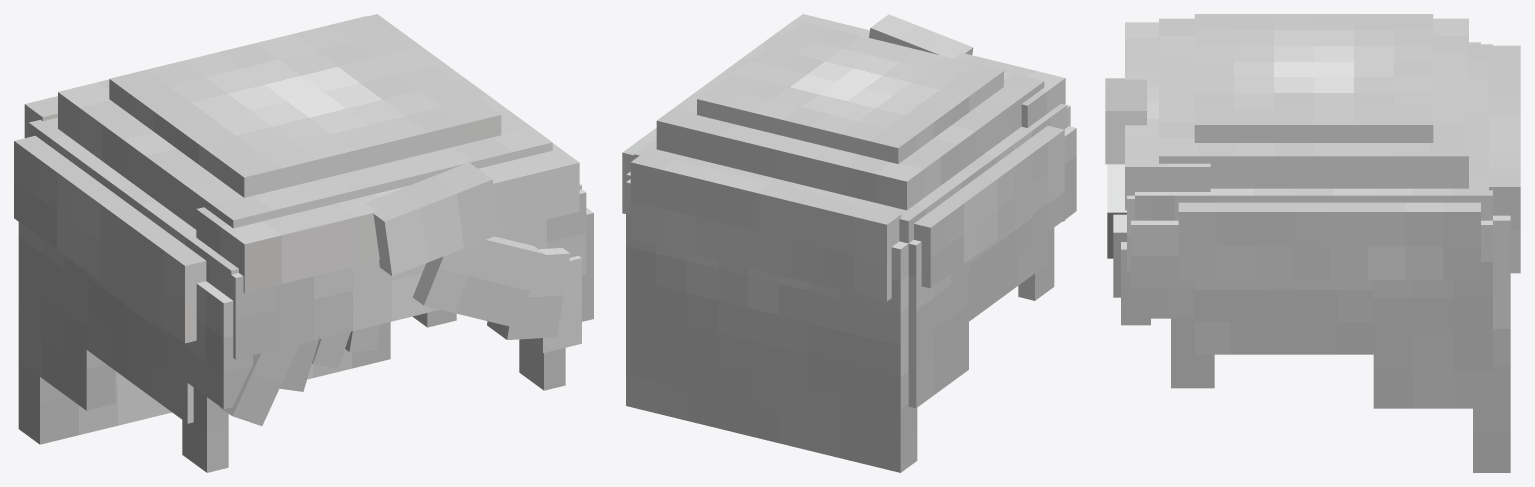
The model's file is side-swept-textured.gltf.
3 renders of one model, left to right at view 1: azimuth 30°, elevation 25°; view 2: azimuth 150°, elevation 25°; view 3: azimuth 270°, elevation 25°, orthographic. The views are drawn at different scales.
Visible parts, largest first — view 1: 정수리 꼭대기, 정수리 볼륨, 옆머리 L (×2), 옆 볼륨 L, 앞 볼륨, 앞 머리선, 컬 위, 컬 가운데, 뒤통수, 옆 앞쪽 L, 정수리, 컬 아래 (+9 smaller); view 2: 뒤통수, 정수리 꼭대기, 뒤통수 볼륨, 정수리 볼륨, 옆머리 L (×2), 옆 볼륨 L, 정수리, 앞 볼륨, 컬 위, 옆 앞쪽 L, 구레나룻 L, 옆 볼륨 R; view 3: 정수리 꼭대기, 옆머리 R (×2), 옆 볼륨 R, 정수리 볼륨, 정수리, 앞 볼륨, 뒤통수 볼륨, 뒤통수, 옆 앞쪽 R, 컬 위, 구레나룻 R, 컬 가운데 (+3 smaller).
Part boxes in pixels (x1=…): 정수리 꼭대기: x1=109, y1=16, x2=501, y2=197; 정수리 볼륨: x1=58, y1=14, x2=552, y2=229; 옆머리 L (×2): x1=19, y1=222, x2=193, y2=423; 옆 볼륨 L: x1=14, y1=135, x2=206, y2=343; 앞 볼륨: x1=196, y1=143, x2=579, y2=293; 앞 머리선: x1=221, y1=189, x2=586, y2=359; 컬 위: x1=365, y1=162, x2=500, y2=276; 컬 가운데: x1=412, y1=236, x2=544, y2=327; 뒤통수: x1=18, y1=222, x2=390, y2=444; 옆 앞쪽 L: x1=187, y1=281, x2=252, y2=408; 정수리: x1=28, y1=117, x2=581, y2=298; 컬 아래: x1=487, y1=248, x2=570, y2=339; 뒤통수: x1=626, y1=179, x2=917, y2=472; 정수리 꼭대기: x1=697, y1=21, x2=1003, y2=163; 뒤통수 볼륨: x1=630, y1=152, x2=901, y2=301; 정수리 볼륨: x1=656, y1=20, x2=1044, y2=210; 옆머리 L (×2): x1=908, y1=203, x2=1048, y2=408; 옆 볼륨 L: x1=914, y1=126, x2=1064, y2=288; 정수리: x1=634, y1=103, x2=1067, y2=243; 앞 볼륨: x1=795, y1=14, x2=1065, y2=127; 컬 위: x1=869, y1=14, x2=973, y2=58; 옆 앞쪽 L: x1=1048, y1=126, x2=1076, y2=231; 구레나룻 L: x1=1018, y1=228, x2=1054, y2=300; 옆 볼륨 R: x1=622, y1=128, x2=656, y2=213; 정수리 꼭대기: x1=1194, y1=14, x2=1433, y2=142; 옆머리 R (×2): x1=1194, y1=220, x2=1492, y2=408; 옆 볼륨 R: x1=1178, y1=202, x2=1480, y2=280; 정수리 볼륨: x1=1159, y1=18, x2=1468, y2=188; 정수리: x1=1135, y1=44, x2=1492, y2=220; 앞 볼륨: x1=1125, y1=22, x2=1210, y2=210; 뒤통수 볼륨: x1=1489, y1=45, x2=1520, y2=273; 뒤통수: x1=1473, y1=215, x2=1510, y2=472; 옆 앞쪽 R: x1=1131, y1=220, x2=1194, y2=318; 컬 위: x1=1105, y1=78, x2=1146, y2=164; 구레나룻 R: x1=1171, y1=318, x2=1214, y2=388; 컬 가운데: x1=1107, y1=164, x2=1126, y2=258.
Bounding box in the file's own units: 0.6313 × 0.5687 × 0.6531.
1 material, 1 textured.
